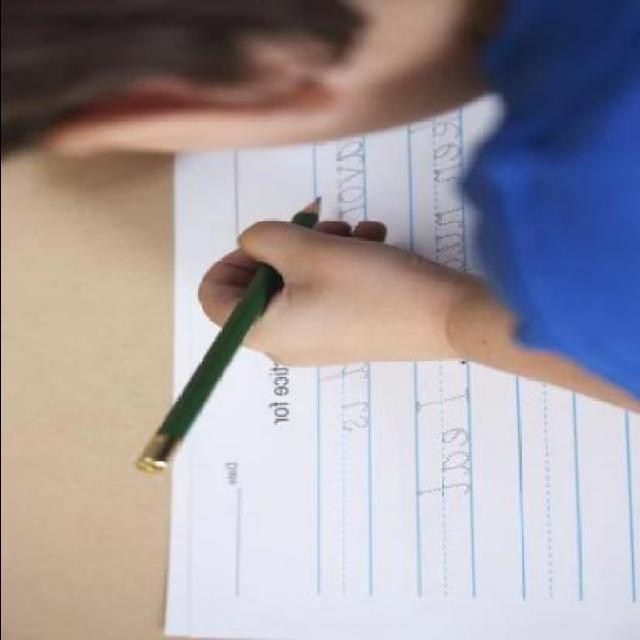Pencil: (283, 193, 334, 227)
